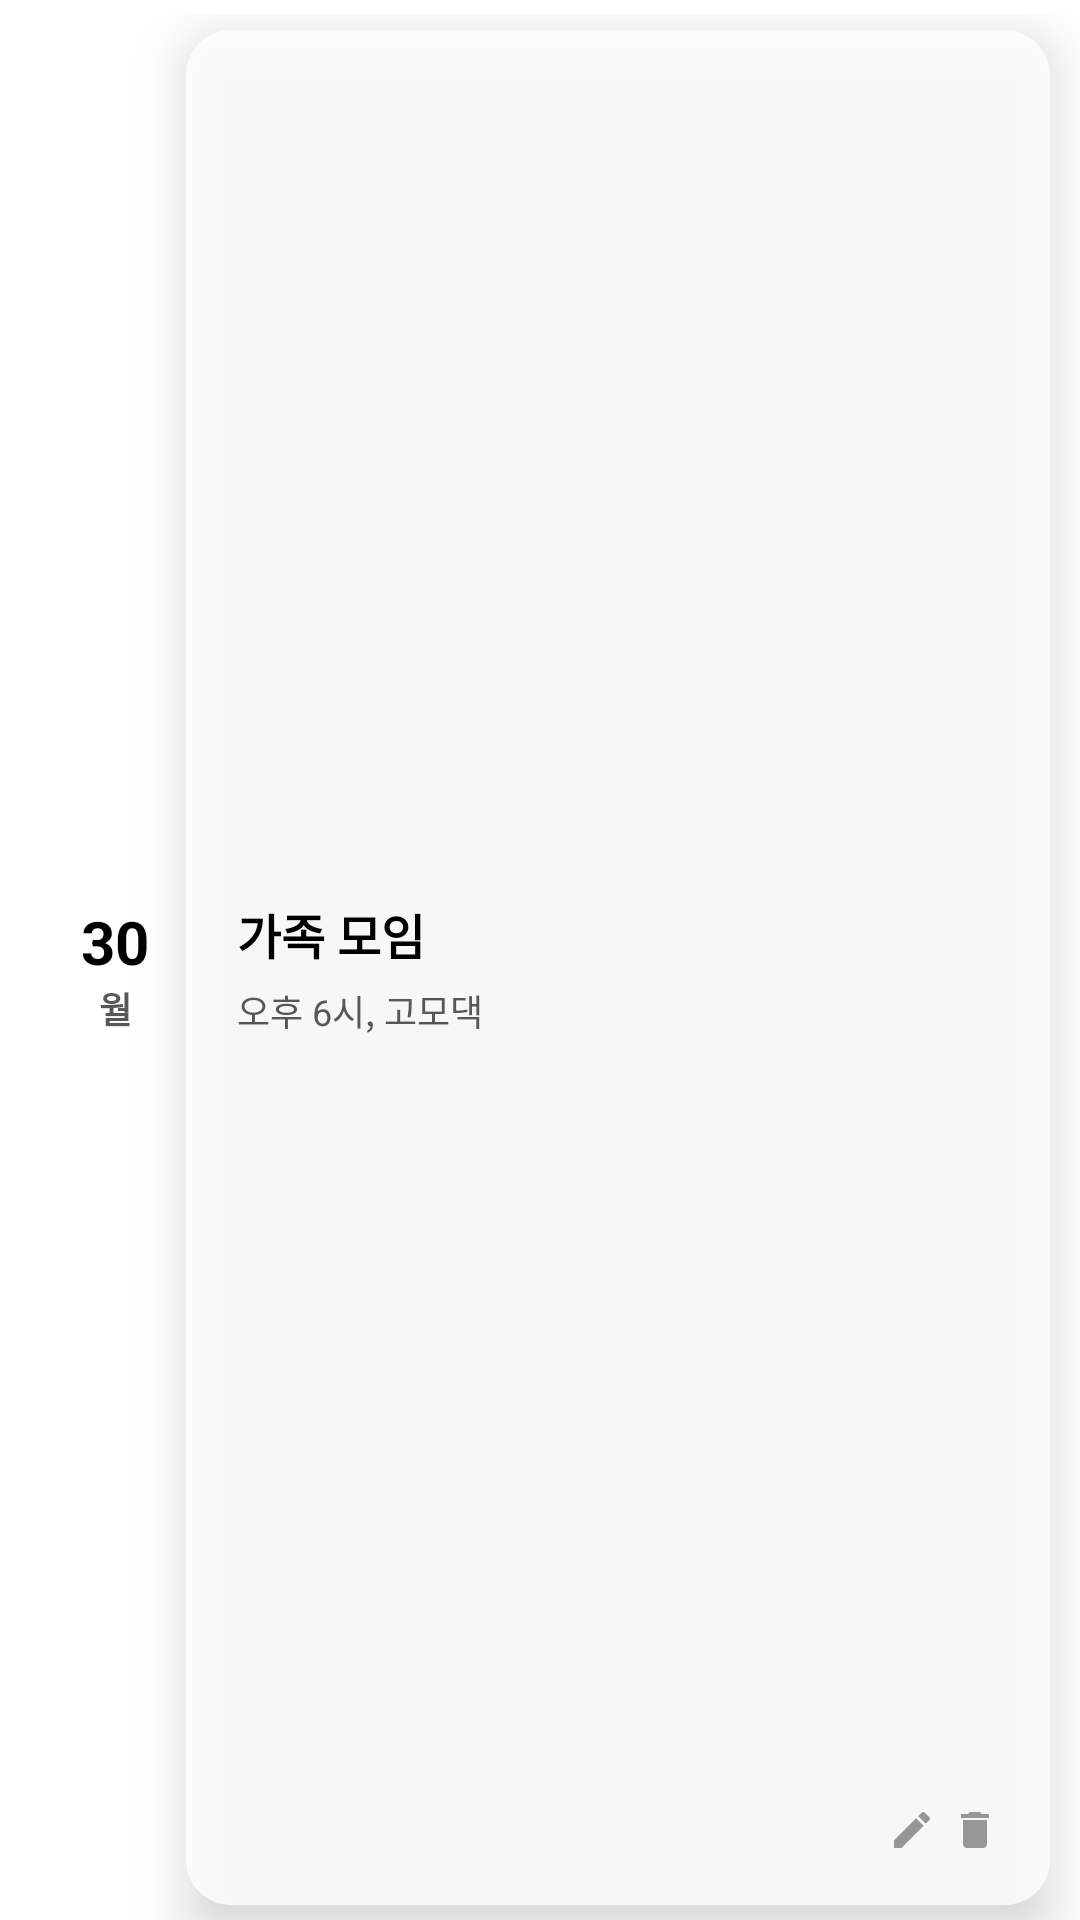

Icon click points for this 1080px×1920px phone screenshot, format (x=x, y=y):
schedule edit: (x=912, y=1830)
schedule remove: (x=975, y=1830)
